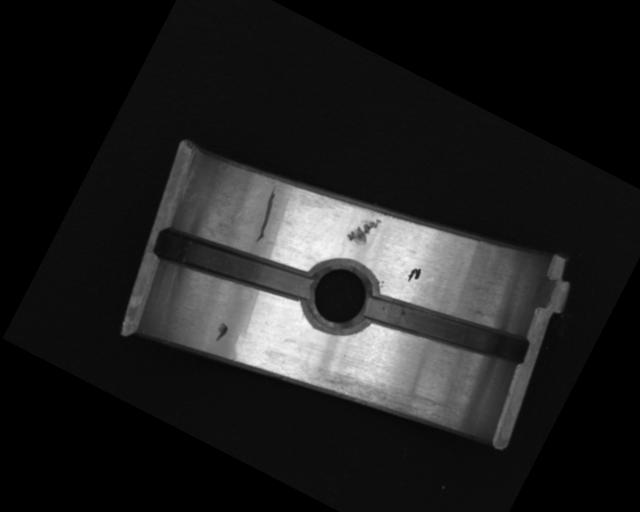blot: (404, 263, 424, 287)
bruise: (345, 209, 382, 250), (212, 321, 230, 343)
gap: (360, 267, 531, 390), (152, 204, 317, 324)
hole: (291, 250, 385, 345)
nick: (246, 184, 287, 244)
scratch: (303, 342, 447, 445)
